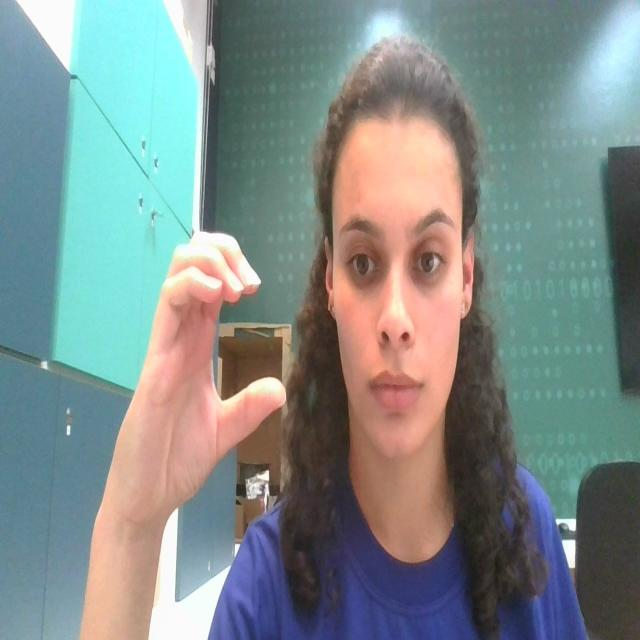C: (98, 223, 298, 514)
